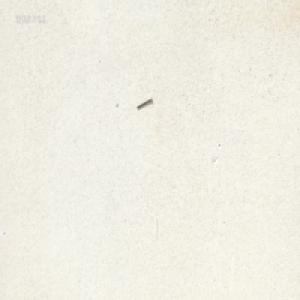Bolt: (135, 95, 151, 108)
